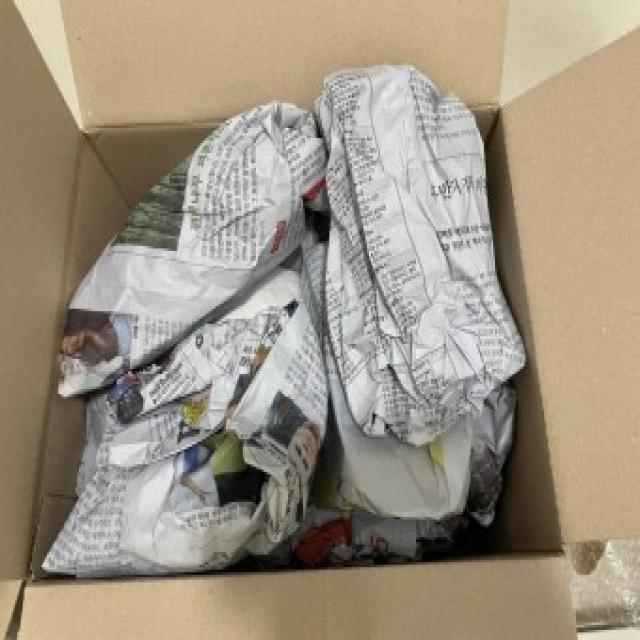reuseable_paper: (332, 80, 503, 394)
